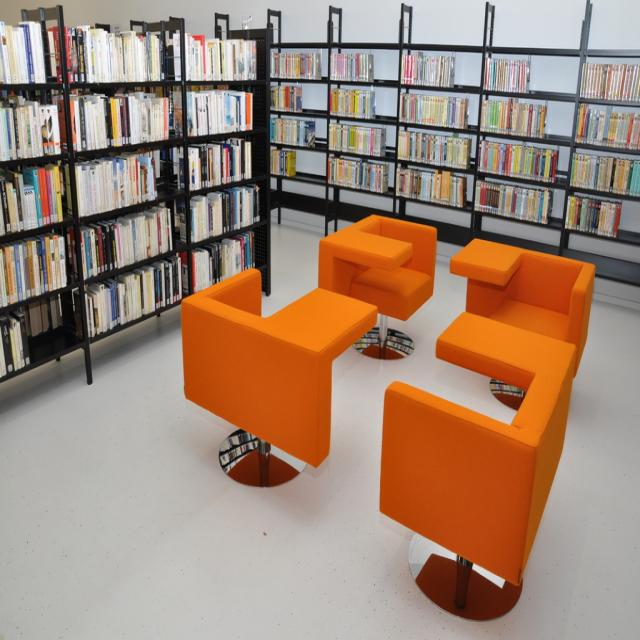Book: (0, 18, 260, 387), (214, 34, 628, 246)
